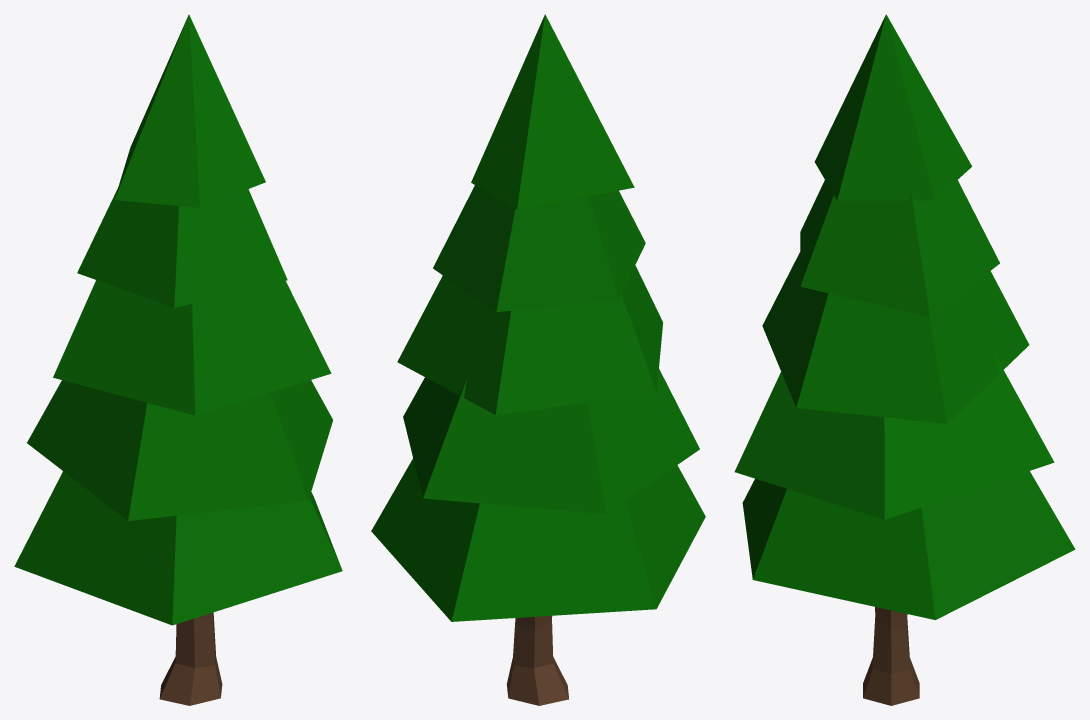
File: Tree_Cone_2.fbx
The picture shows the model from 3 angles, left to right: view 1: azimuth 30°, elevation 25°; view 2: azimuth 150°, elevation 25°; view 3: azimuth 270°, elevation 25°; orthographic projection.
Visible parts, largest first — view 1: ConeTreeV1; view 2: ConeTreeV1; view 3: ConeTreeV1.
Part boxes in pixels (left/top/right/bottom): ConeTreeV1: left=14, top=14, right=342, bottom=705; ConeTreeV1: left=371, top=14, right=705, bottom=705; ConeTreeV1: left=734, top=14, right=1075, bottom=705.
Size of the model in its own units: 705 by 1564 by 717.
